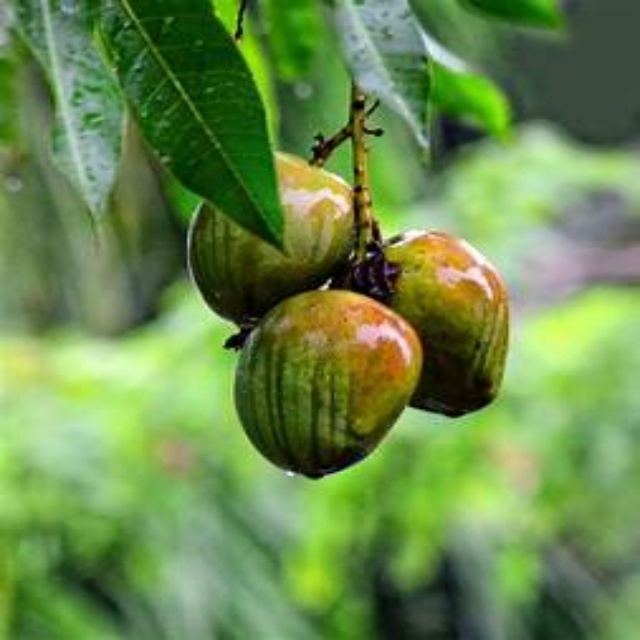mango: (235, 294, 418, 476), (364, 224, 509, 413), (186, 147, 351, 309)
